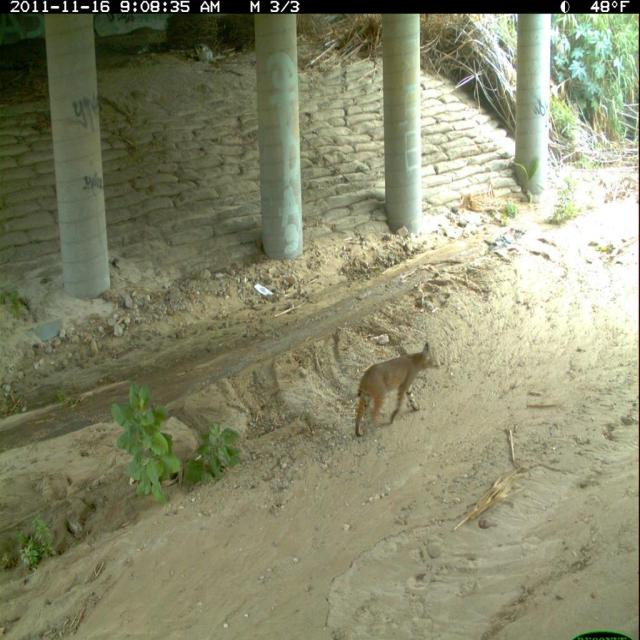bobcat: (352, 338, 441, 443)
